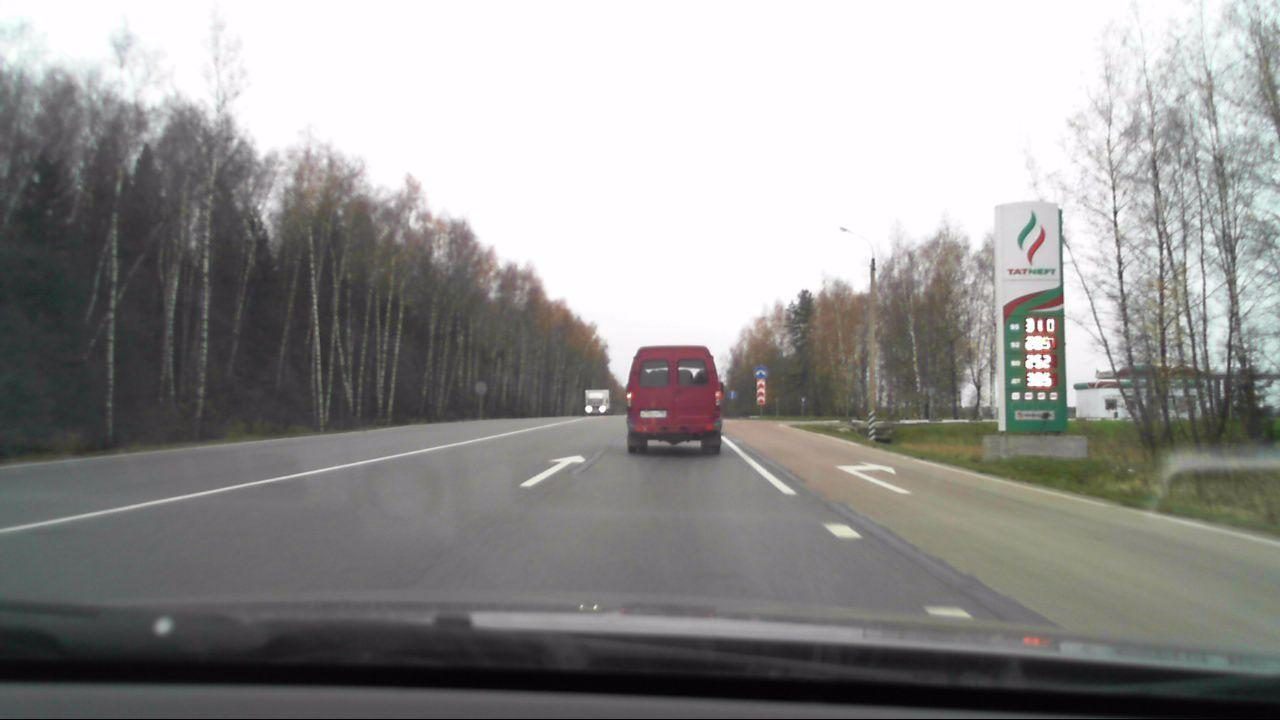4_2_3: (753, 363, 769, 380)
8_22_3: (757, 379, 767, 405)
